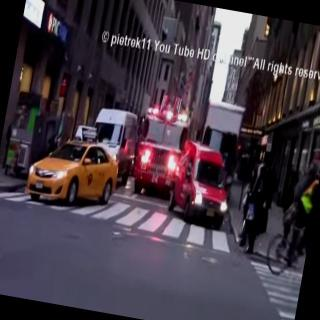Fire_truck: (127, 89, 195, 200)
